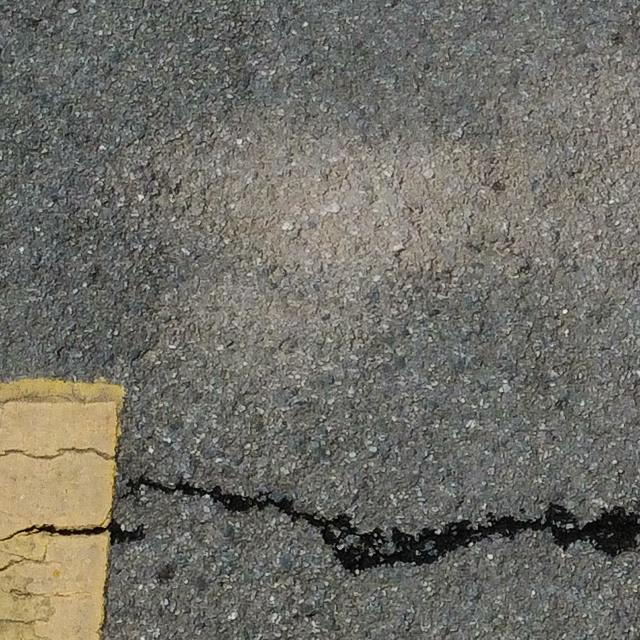TransverseCrack: (120, 473, 640, 577), (1, 517, 144, 546)
